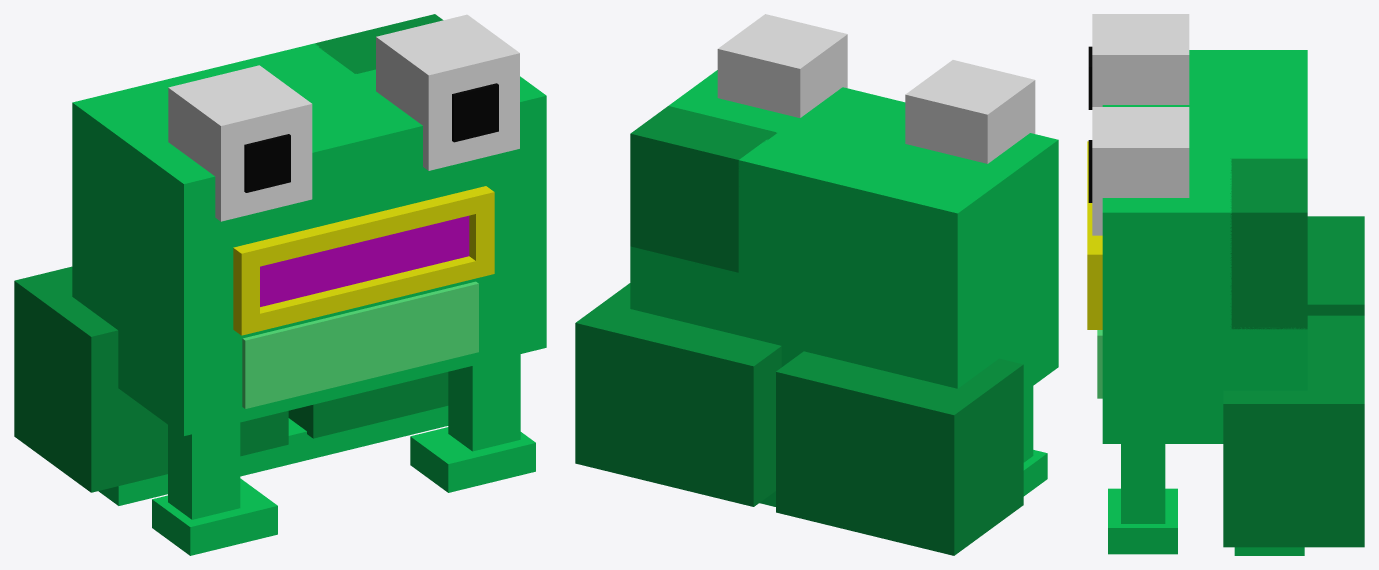
File: frog.fbx
3 views of the same model, side by side, from view 1: azimuth 30°, elevation 25°; view 2: azimuth 150°, elevation 25°; view 3: azimuth 270°, elevation 25° (orthographic). The views are drawn at different scales.
Parts seen in each view (by area): view 1: pCube61, pCube53, pCube45, pCube67, pCube43, pCube49, pCube51, pCube46, pCube47, pCube56, pCube48, pCube63 (+11 smaller); view 2: pCube61, pCube60, pCube56, pCube57, pCube59, pCube45, pCube49, pCube51, pCube54, pCube55, pCube58, pCube43 (+4 smaller); view 3: pCube60, pCube48, pCube47, pCube59, pCube51, pCube49, pCube61, pCube58, pCube56, pCube57, pCube62, pCube65 (+5 smaller).
Boxes of the visible parts, x1,y1,x2,y2 form: pCube61: (14,266,288,492); pCube53: (233,186,494,335); pCube45: (113,120,305,310); pCube67: (242,281,478,408); pCube43: (113,258,305,435); pCube49: (168,65,312,221); pCube51: (376,14,519,170); pCube46: (293,73,426,229); pCube47: (425,220,546,376); pCube56: (72,73,201,257); pCube48: (357,69,546,232); pCube63: (168,422,240,519); pCube61: (776,351,1023,555); pCube60: (575,283,781,506); pCube56: (848,159,995,327); pCube57: (738,133,884,301); pCube59: (630,106,776,272); pCube45: (886,133,1058,299); pCube49: (905,60,1035,163); pCube51: (717,14,847,117); pCube54: (848,299,995,388); pCube55: (738,273,848,366); pCube58: (630,246,738,335); pCube43: (995,252,1058,392); pCube60: (1223,315,1364,547); pCube48: (1102,158,1231,329); pCube47: (1102,327,1231,443); pCube59: (1230,158,1307,329); pCube51: (1092,107,1189,235); pCube49: (1092,14,1189,106); pCube61: (1307,216,1364,315); pCube58: (1230,327,1307,390); pCube56: (1230,50,1307,104); pCube57: (1230,104,1307,158); pCube62: (1121,444,1165,523); pCube65: (1108,488,1177,554).
Bounding box in the file's own units: 6.91 × 6.78 × 4.3.
